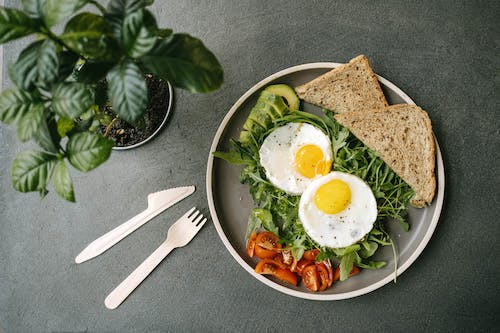knife: (73, 183, 197, 266)
